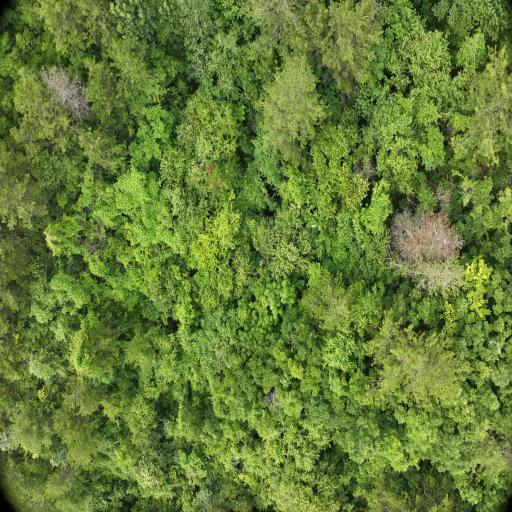dead-tree: (396, 214, 462, 261), (48, 74, 70, 96), (62, 95, 87, 113)
sick-tree: (204, 166, 214, 174), (204, 182, 209, 186)
